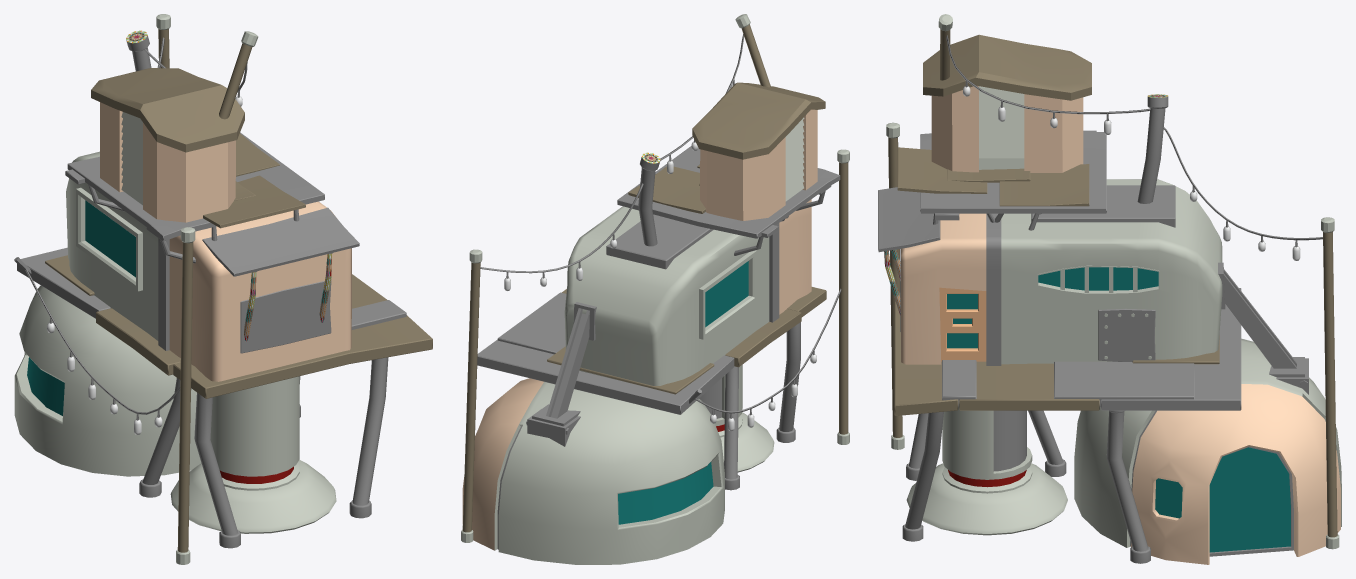
Rendered from SM_caravan_C.fbx.
3 renders of one model, left to right at view 1: azimuth 30°, elevation 25°; view 2: azimuth 150°, elevation 25°; view 3: azimuth 270°, elevation 25°, orthographic. The views are drawn at different scales.
Parts seen in each view (by area): view 1: SM_caravan_C; view 2: SM_caravan_C; view 3: SM_caravan_C.
Part boxes in pixels (x1,y1,x2,y2): SM_caravan_C: (14,14,432,564); SM_caravan_C: (461,14,849,564); SM_caravan_C: (878,14,1341,564).
Size of the model in its own units: 776 by 1380 by 1216.
